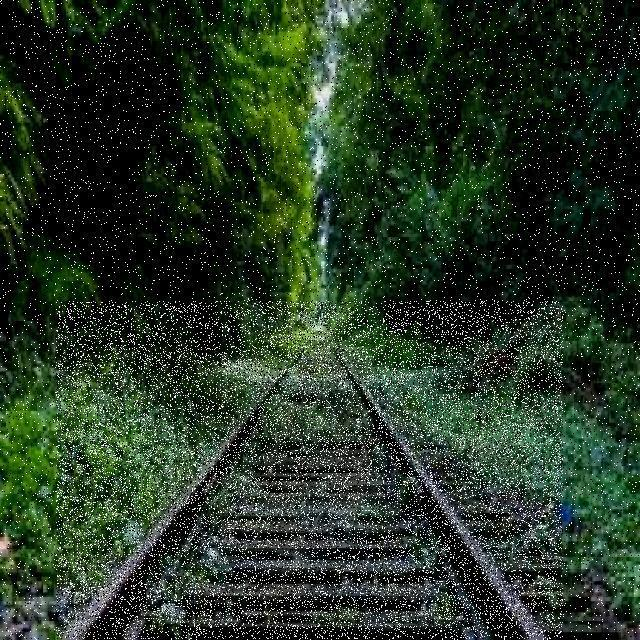rail: (57, 302, 562, 639)
